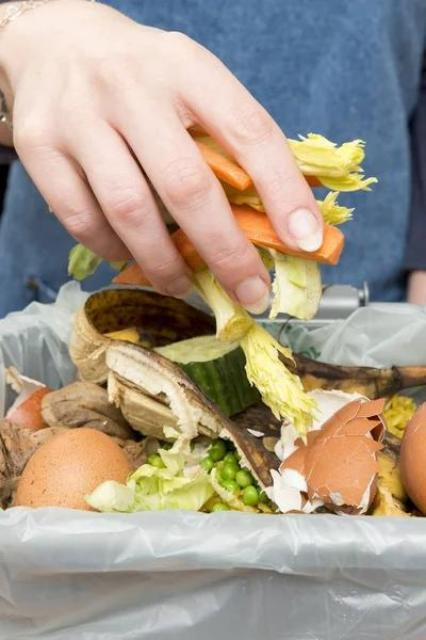Garbage: (3, 299, 426, 518)
